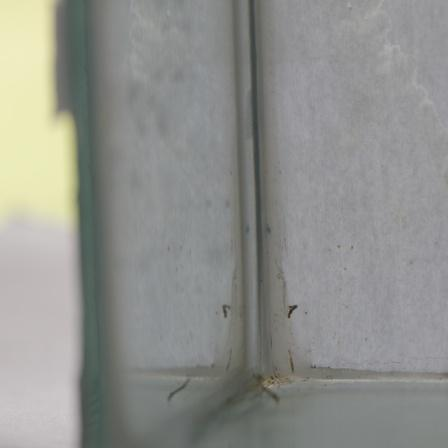Jentik-Nyamuk: (284, 301, 304, 323)
